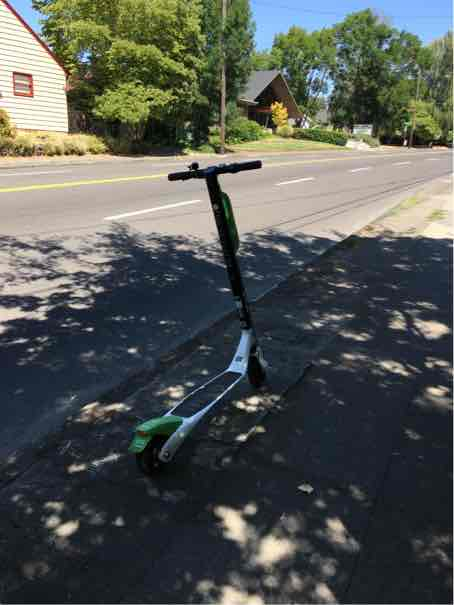scooter: (129, 151, 272, 484)
